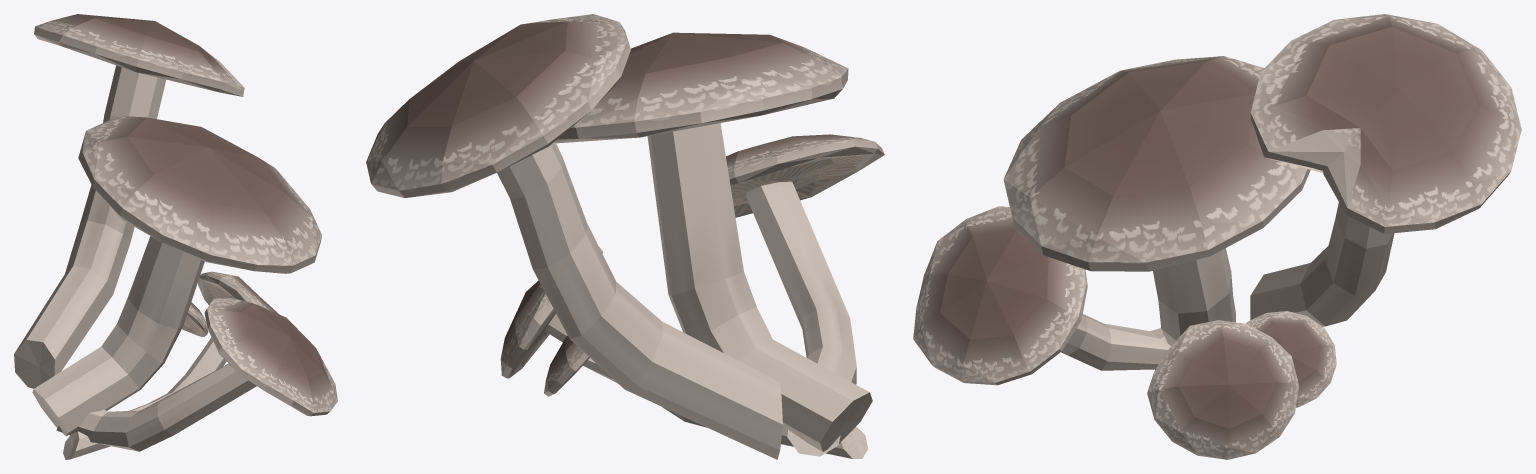
Rendered from shiitakeGroup.fbx.
3 views of the same model, side by side, from view 1: azimuth 30°, elevation 25°; view 2: azimuth 150°, elevation 25°; view 3: azimuth 270°, elevation 25° (orthographic). The views are drawn at different scales.
Parts seen in each view (by area): view 1: shiitakeGroup1; view 2: shiitakeGroup1; view 3: shiitakeGroup1.
Part boxes in pixels (x1,y1,x2,y2): shiitakeGroup1: (14,14,337,459); shiitakeGroup1: (366,14,884,459); shiitakeGroup1: (913,14,1521,459).
Size of the model in its own units: 27.68 by 32.34 by 43.77.
